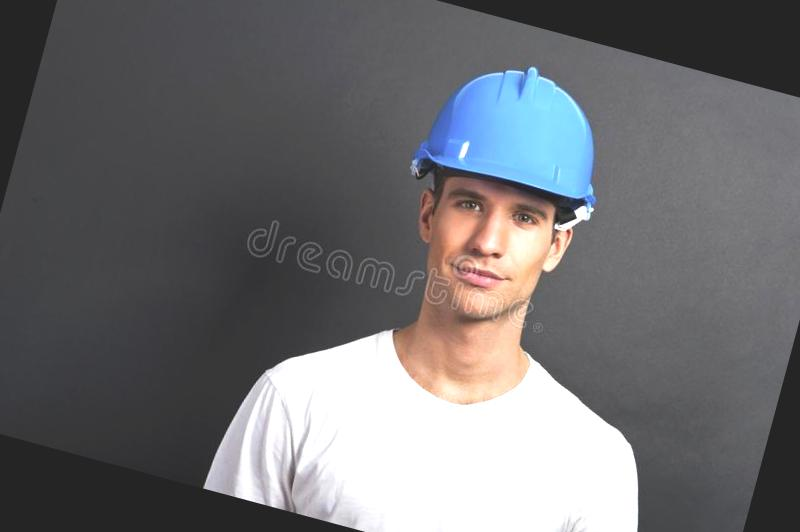helmet: (396, 35, 638, 228)
no_vest: (206, 280, 694, 532)
person: (204, 5, 761, 532)
